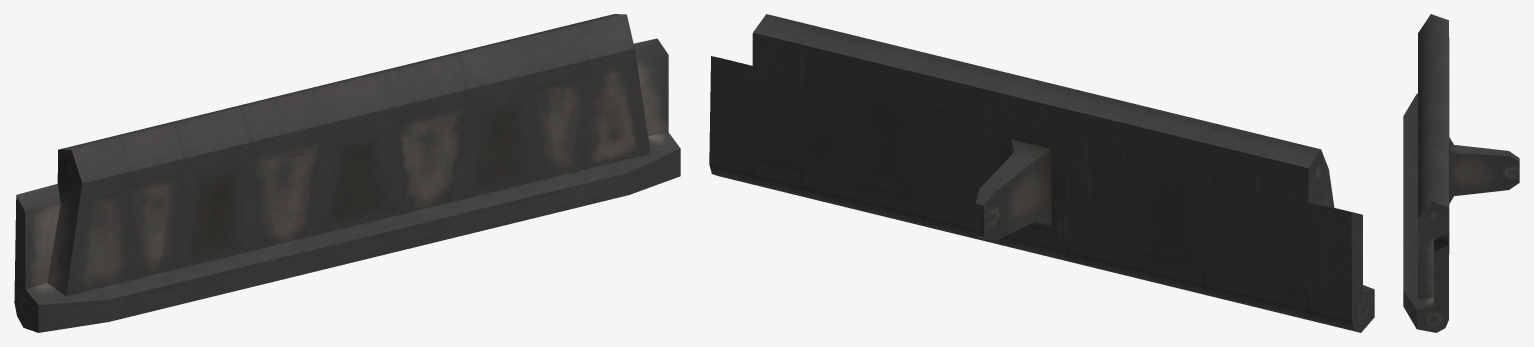
3 views of the same model, side by side, from view 1: azimuth 30°, elevation 25°; view 2: azimuth 150°, elevation 25°; view 3: azimuth 270°, elevation 25° (orthographic). The views are drawn at different scales.
Parts seen in each view (by area): view 1: set_0_group_0; view 2: set_0_group_0; view 3: set_0_group_0.
Part boxes in pixels (x1,y1,x2,y2): set_0_group_0: (14, 14, 680, 332); set_0_group_0: (709, 14, 1374, 332); set_0_group_0: (1403, 14, 1519, 332).
Bounding box in the file's own units: 0.7407 × 0.1871 × 0.168.
Materials: 1 (1 with a texture image).
